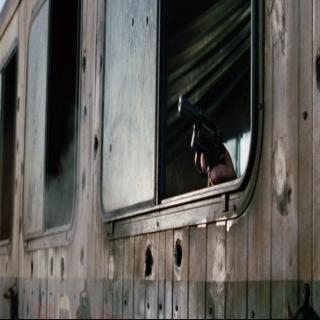gun: (174, 84, 240, 203)
